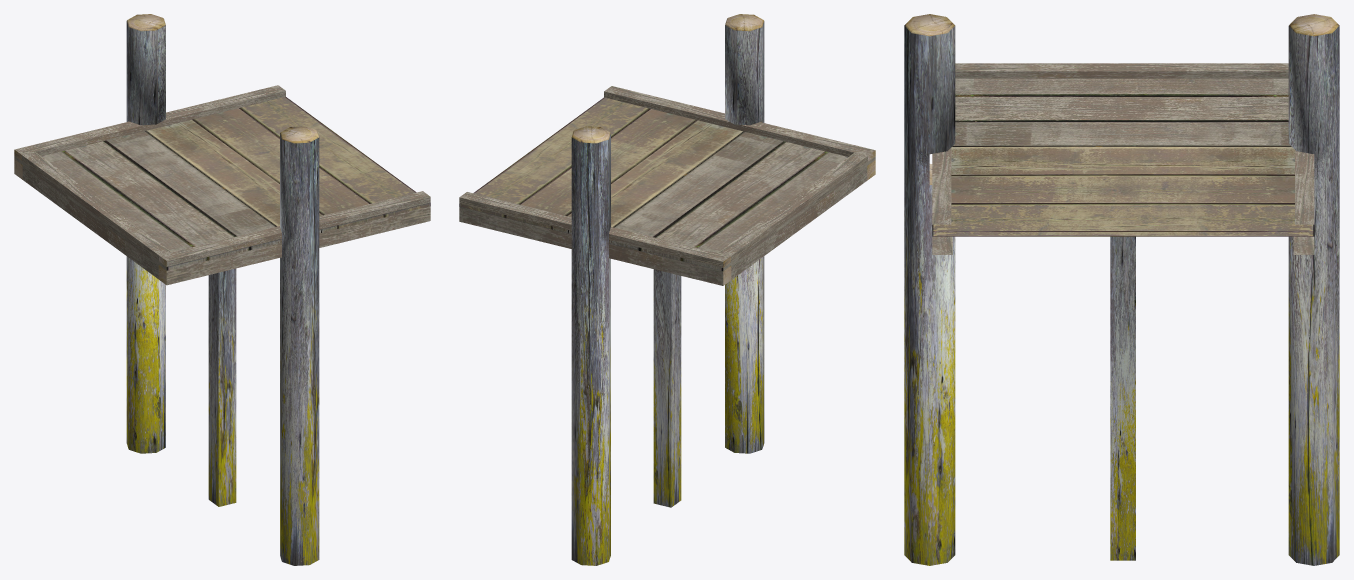
File: dock-end.dae
3 views of the same model, side by side, from view 1: azimuth 30°, elevation 25°; view 2: azimuth 150°, elevation 25°; view 3: azimuth 270°, elevation 25° (orthographic). The views are drawn at different scales.
Parts seen in each view (by area): view 1: dock_023; view 2: dock_023; view 3: dock_023.
Part boxes in pixels (x1,y1,x2,y2): dock_023: (14, 14, 430, 565); dock_023: (459, 14, 875, 565); dock_023: (904, 14, 1339, 565).
Size of the model in its own units: 15 by 17.09 by 23.02.
Materials: 1 (1 with a texture image).
